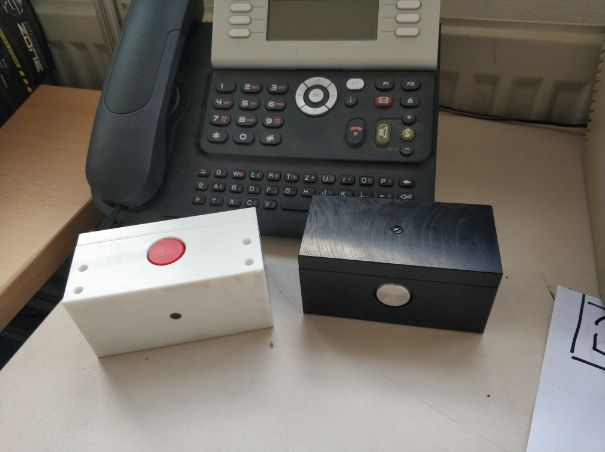black+black+silver: (295, 192, 506, 338)
white+white+red: (58, 202, 276, 362)
